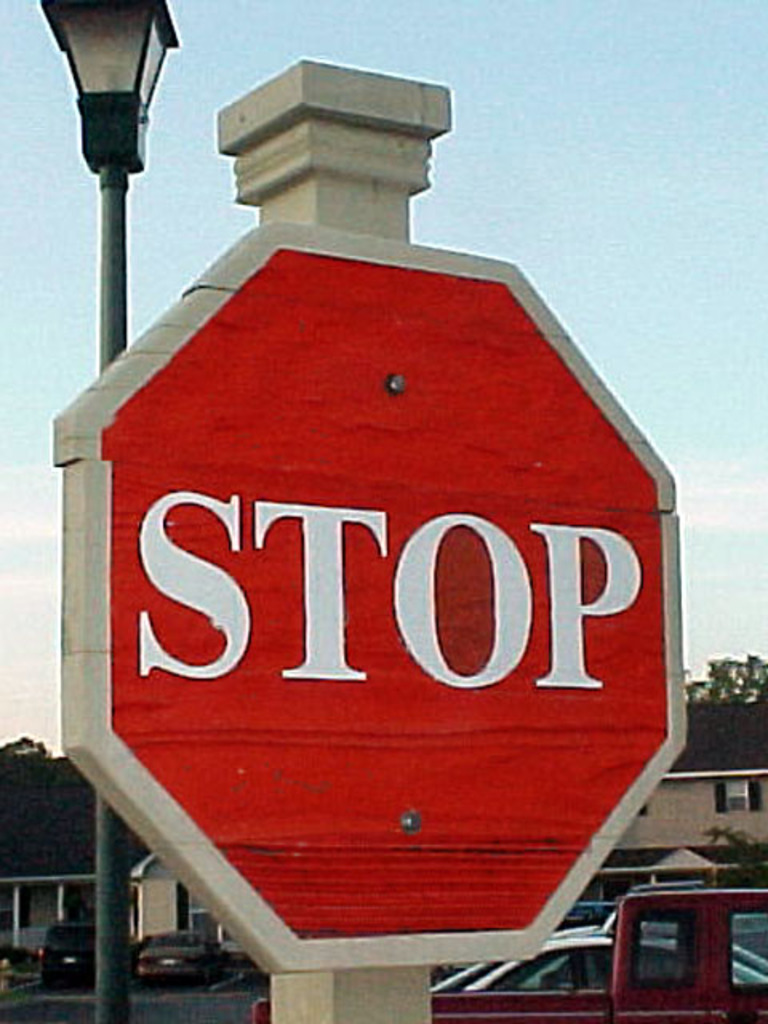stop: (63, 197, 685, 960)
